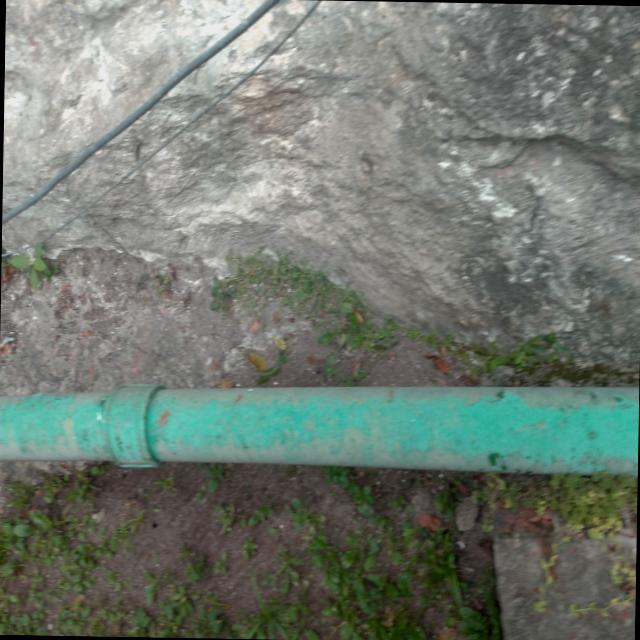gas: (0, 371, 639, 484)
